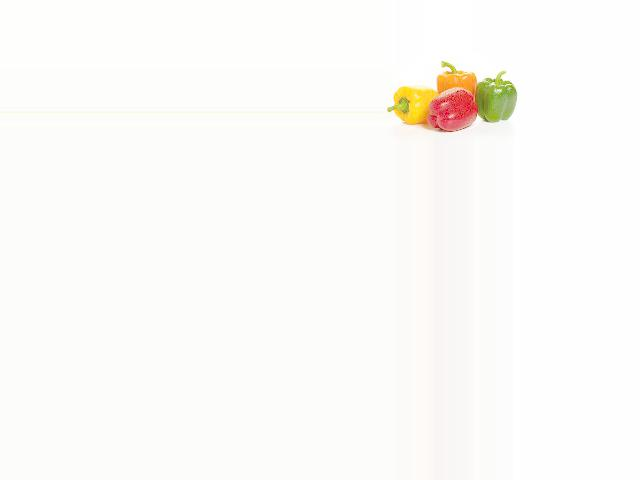bell_pepper: (472, 73, 517, 129)
